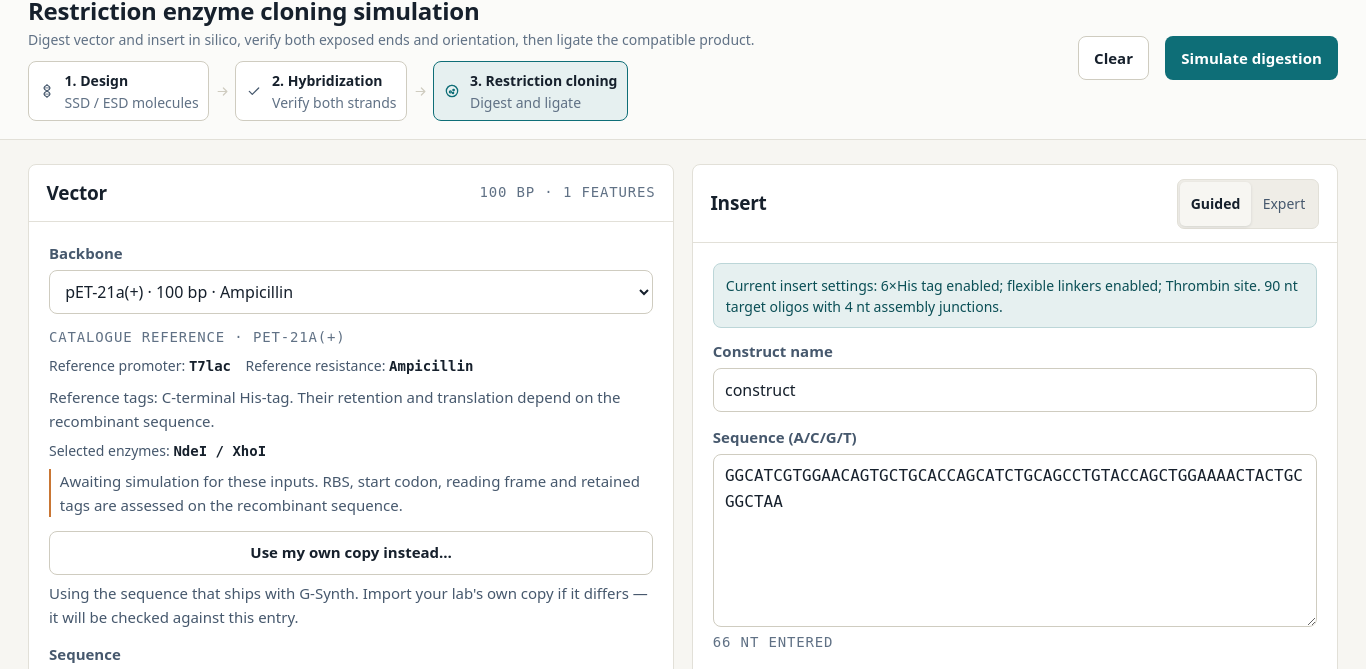
Test: ignores a simulation response that arrives after the enzymes change
Click the button "Simulate digestion": (1252, 58) left=1165, top=36, right=1338, bottom=80
(page scrolled)
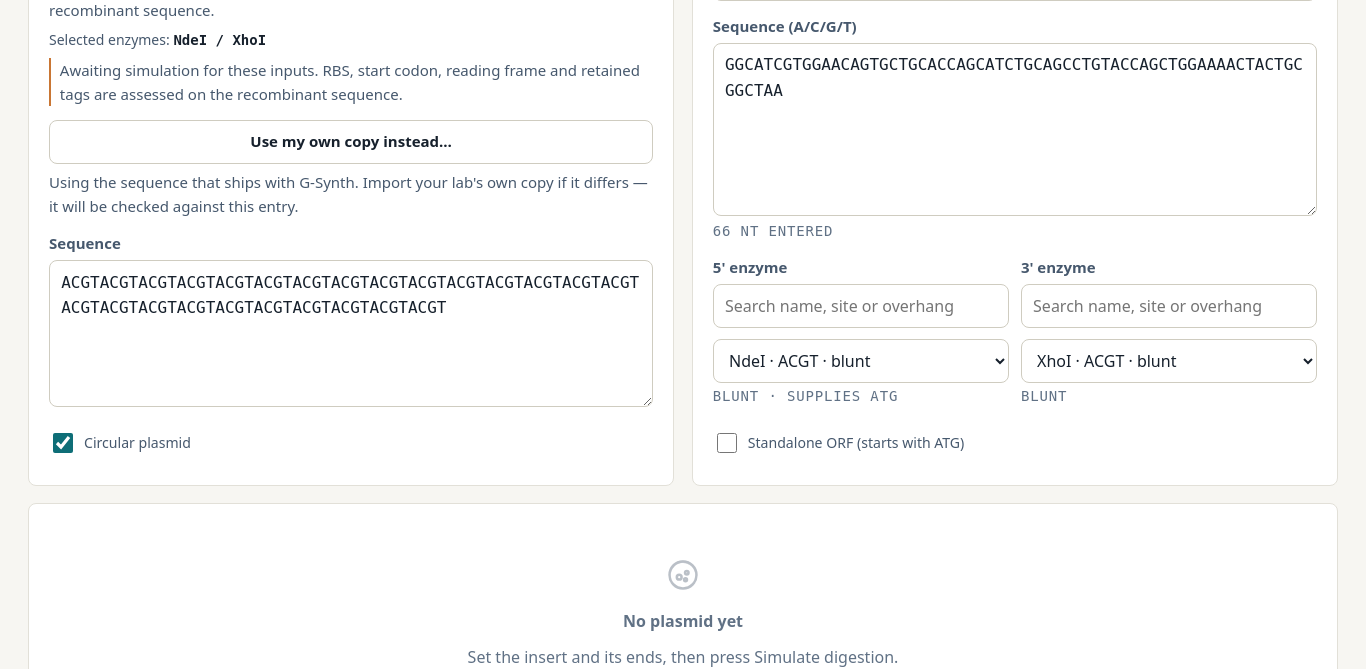
Select "BamHI · ACGT · blunt" in the dropdown labelled "5' enzyme": (861, 361) left=713, top=339, right=1009, bottom=383
(page scrolled)
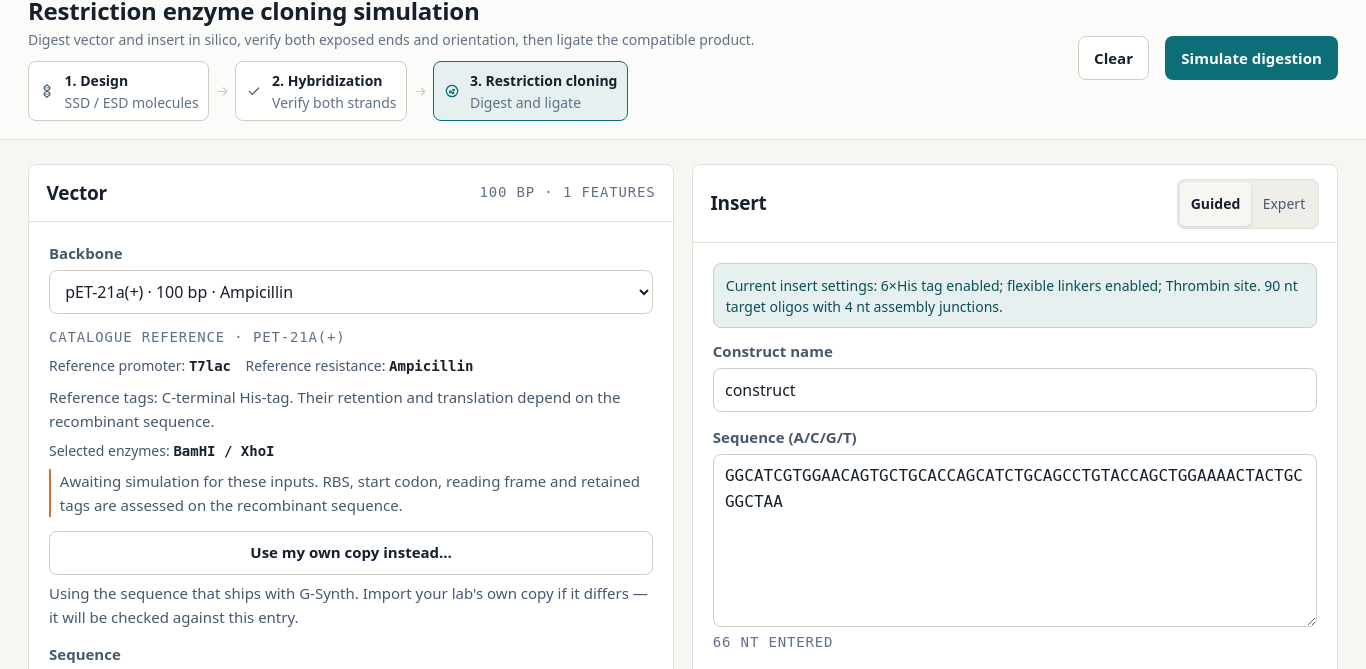
expect the button "Simulate digestion" is enabled: met, box left=1165, top=36, right=1338, bottom=80
